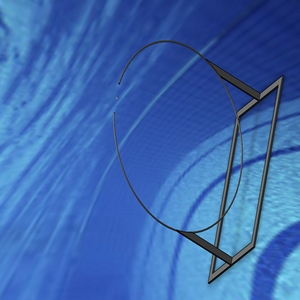circle: (109, 35, 284, 283)
